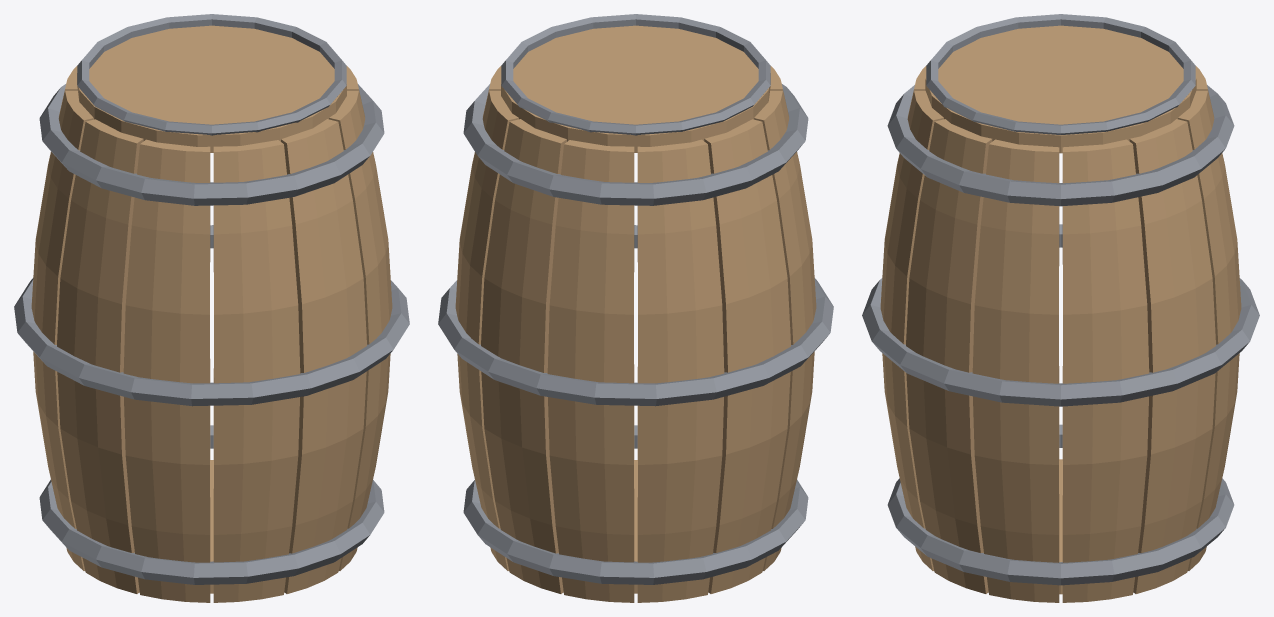
Rendered from ob_barrel.glb.
The picture shows the model from 3 angles, left to right: view 1: azimuth 30°, elevation 25°; view 2: azimuth 150°, elevation 25°; view 3: azimuth 270°, elevation 25°; orthographic projection.
Visible parts, largest first — view 1: staveA/timber, hoops/iron; view 2: staveA/timber, hoops/iron; view 3: staveA/timber, hoops/iron.
Part boxes in pixels (x1=…): staveA/timber: x1=31, y1=25, x2=392, y2=602; hoops/iron: x1=14, y1=14, x2=409, y2=584; staveA/timber: x1=455, y1=25, x2=816, y2=602; hoops/iron: x1=438, y1=14, x2=833, y2=584; staveA/timber: x1=880, y1=25, x2=1241, y2=602; hoops/iron: x1=862, y1=14, x2=1259, y2=585.
Size of the model in its own units: 0.704 by 0.9194 by 0.704.
